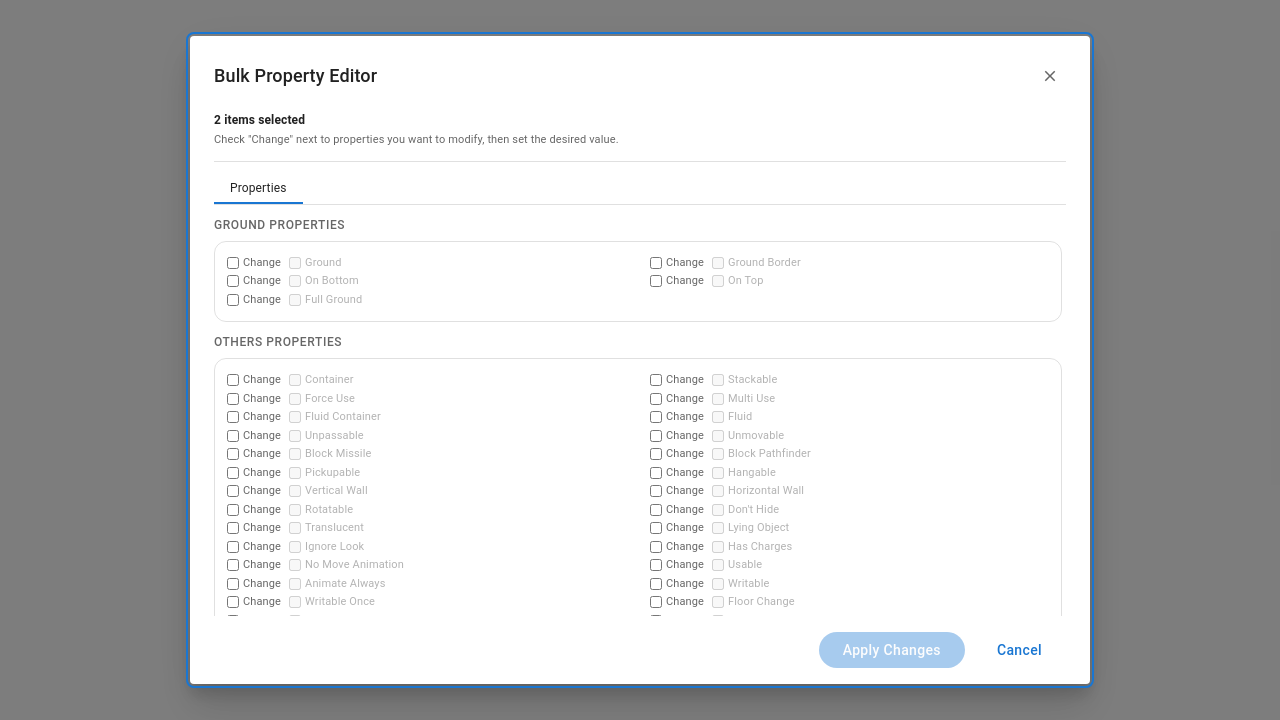
BulkEditDialog › BulkPropertyRow: checking "Change" enables the value checkbox
Check: the checkbox labelled "Container" is disabled, box [289,374,301,386]
Note: Check "Change"
Click the 6th checkbox labelled "Change" at (233, 380), box [227,374,239,386]
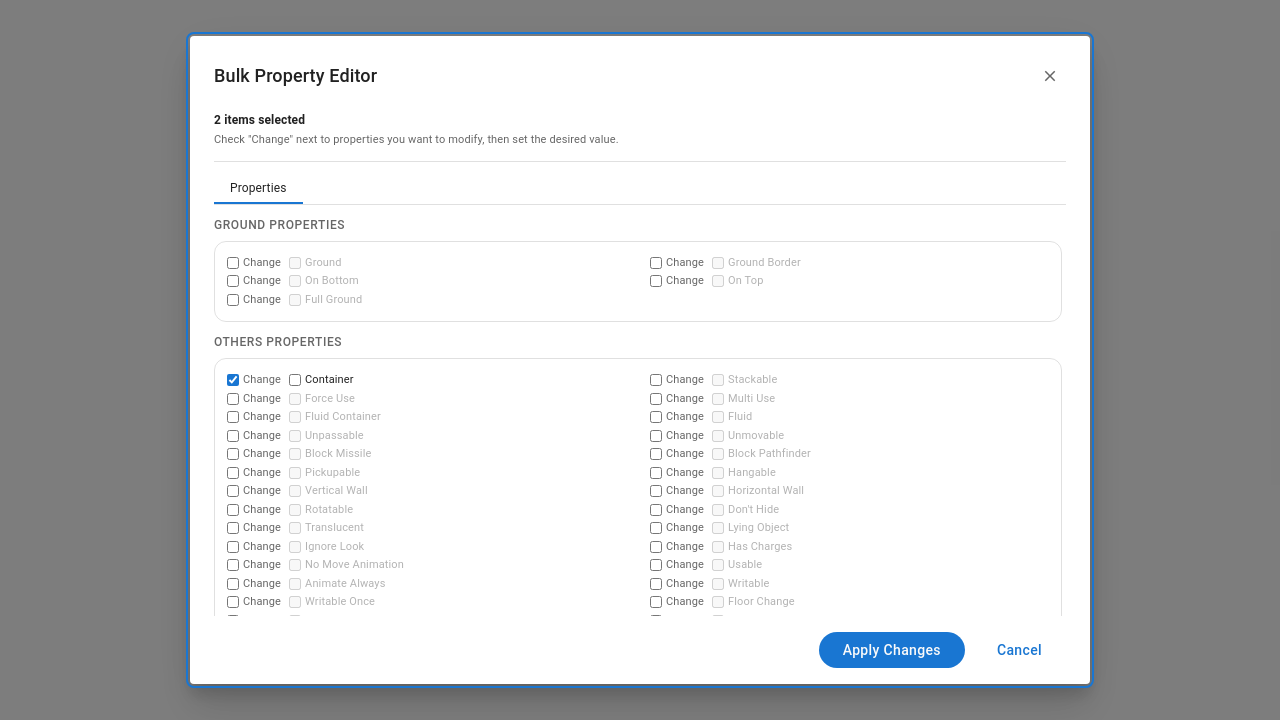
Check: the 6th checkbox labelled "Change" is checked, box [227,374,239,386]
Check: the checkbox labelled "Container" is enabled, box [289,374,301,386]
